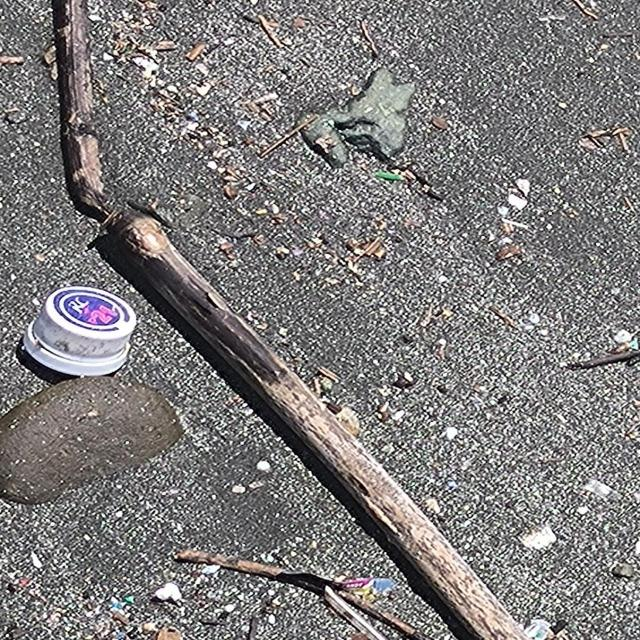litter: (18, 286, 136, 380)
